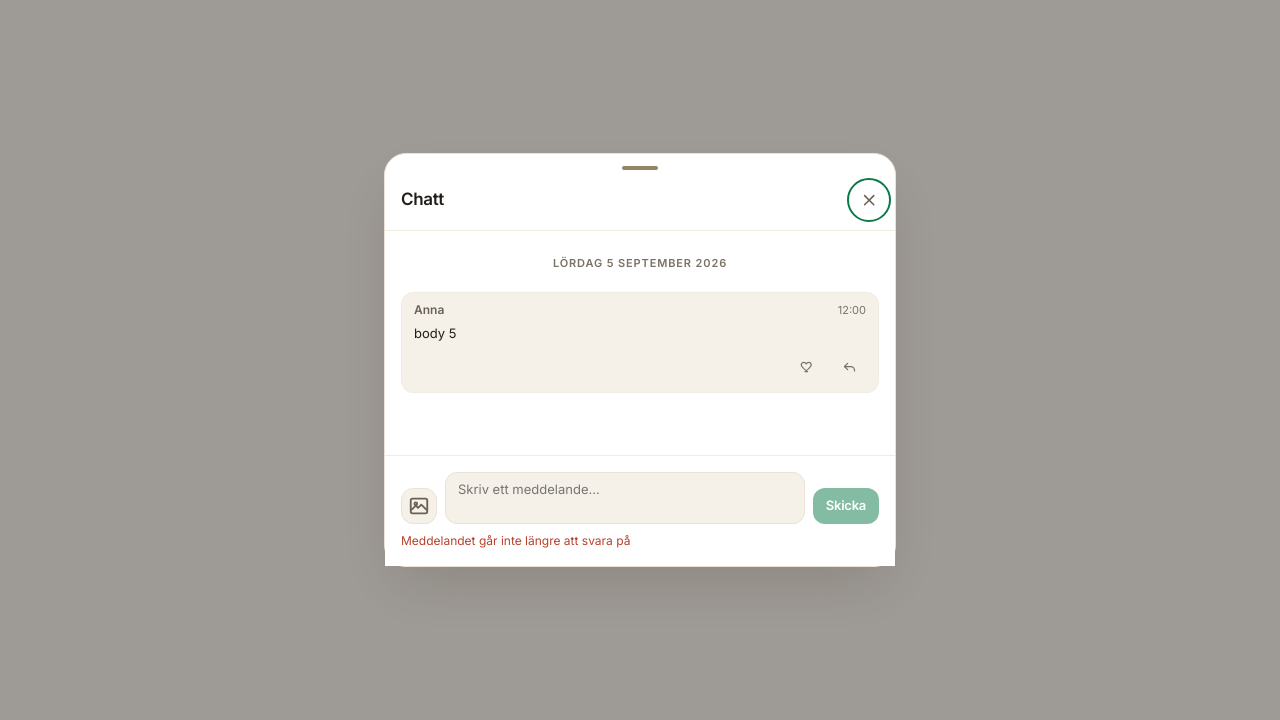
it: ChatPanel — reply composer mode + quoted replies (Task G) › a hidden-target server error drops reply mode, keeps the draft, and shows the Swedish message
The image size is (1280, 720).
In the text box: (625, 498) [445,472,805,524], type "för sent"
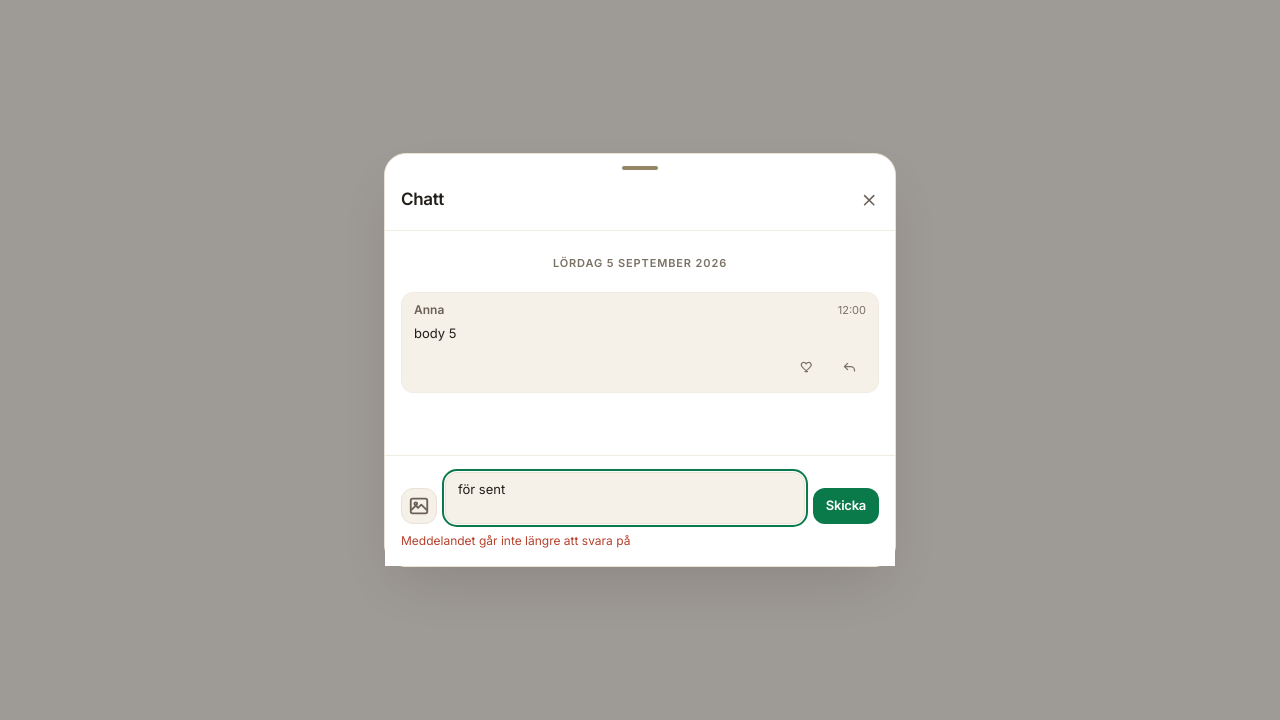
Click the button named "Svara på Annas meddelande": (849, 367) [832,350,866,384]
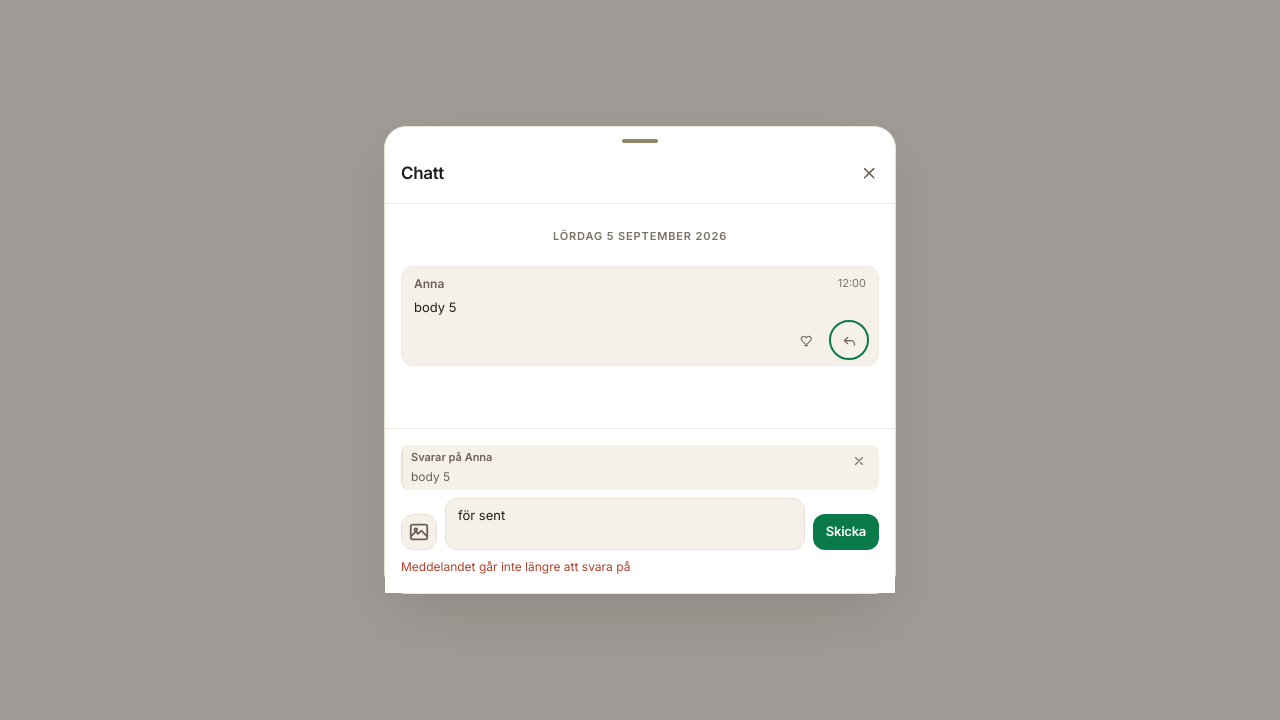
Click the button "Skicka": (846, 532) [813,514,879,550]
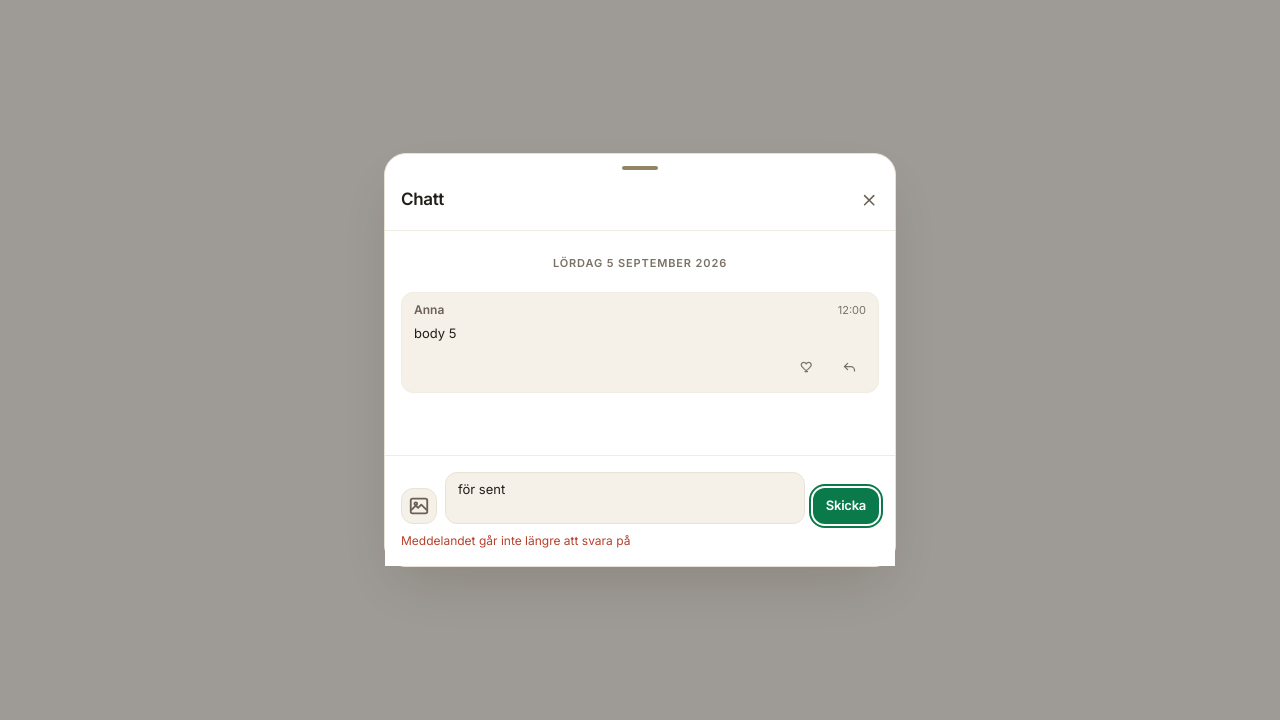
expect the text "Meddelandet går inte längre att svara på" is shown: met, box [401,533,630,548]
expect the text "Svarar på Anna" is gone: met
